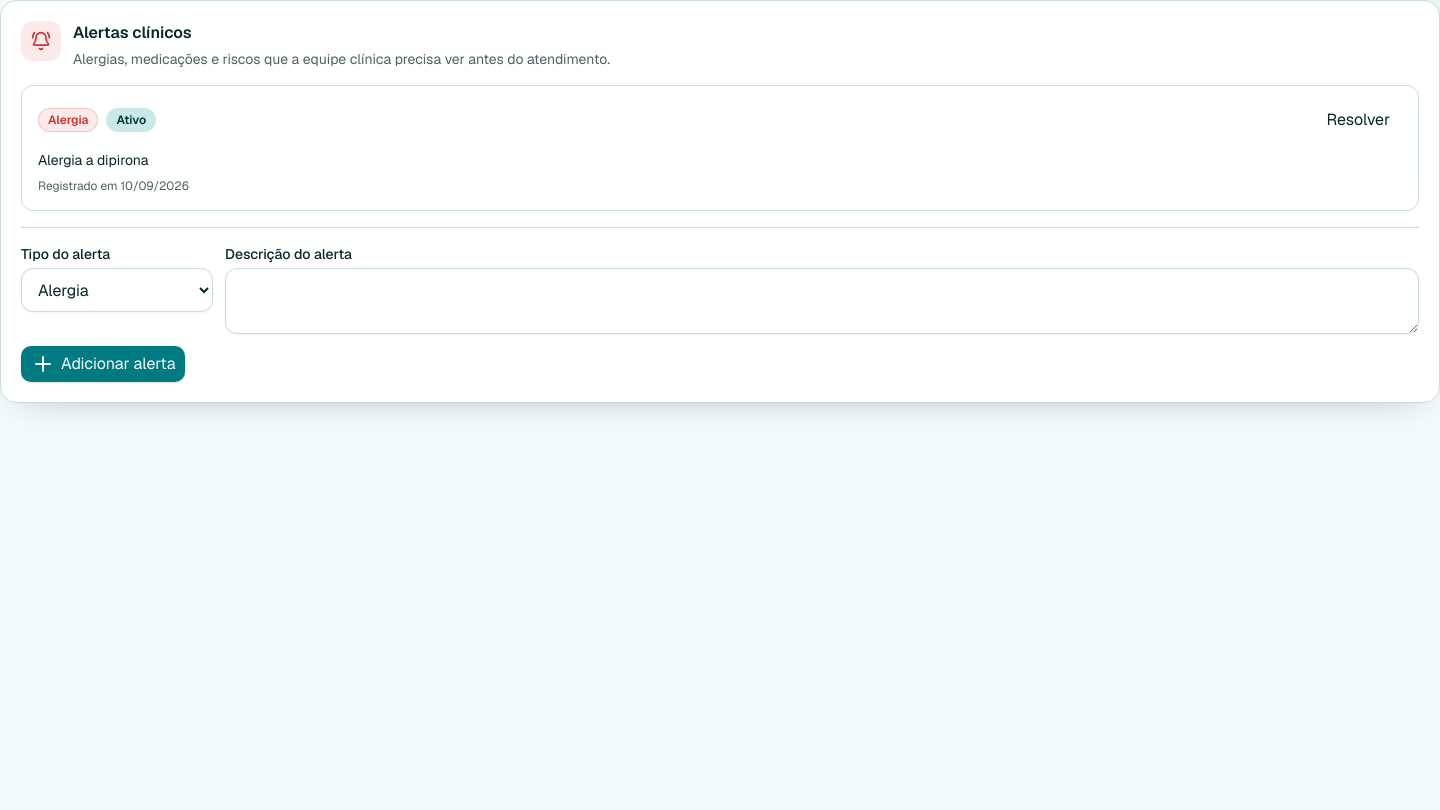
Scenario: PatientAlertsPanel › registers a new alert and prepends it to the list
Select "Risco clínico" in the dropdown labelled "Tipo do alerta": (117, 290) x1=21 y1=268 x2=213 y2=312
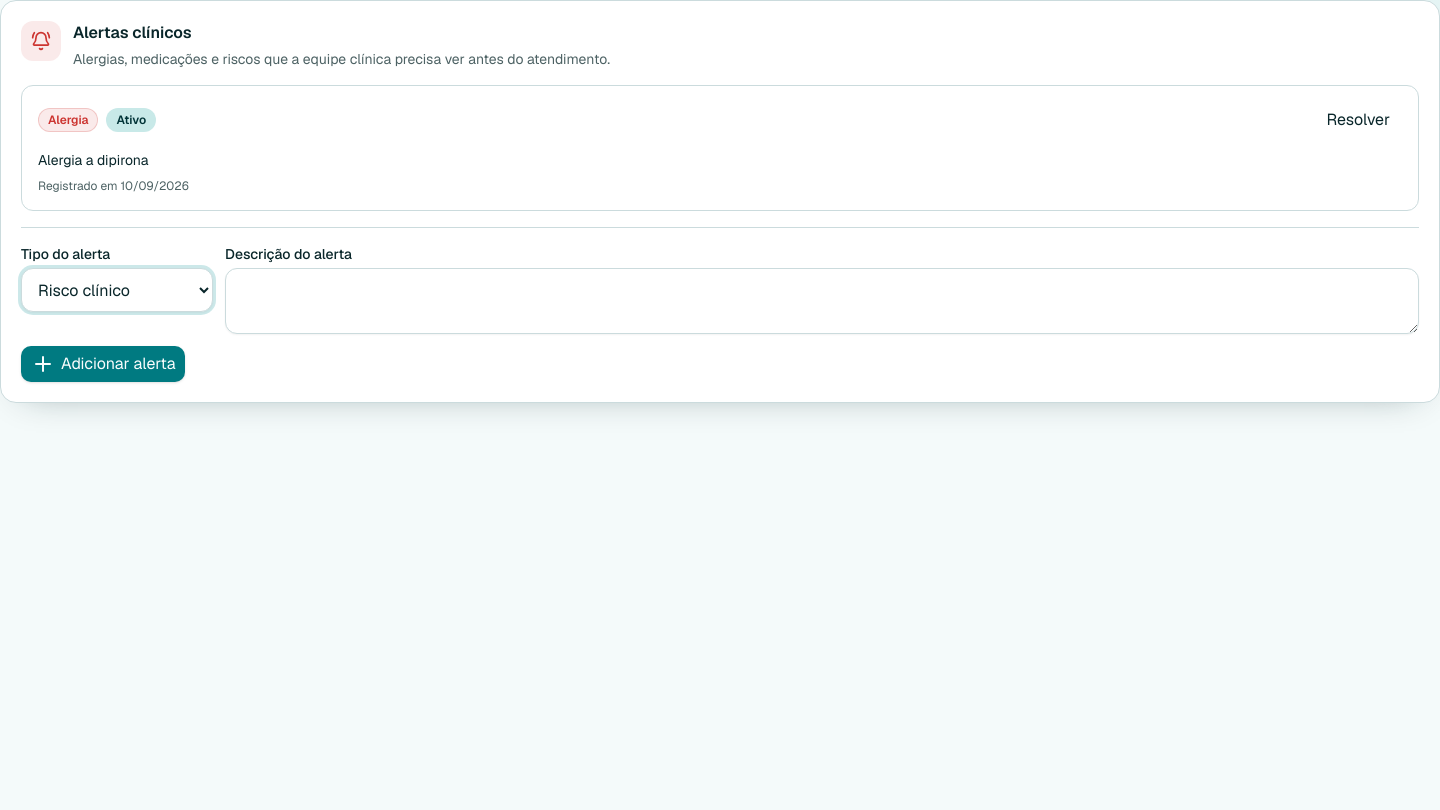
In the text box labelled "Descrição do alerta": (822, 301) x1=225 y1=268 x2=1419 y2=334, type "Risco de sangramento"
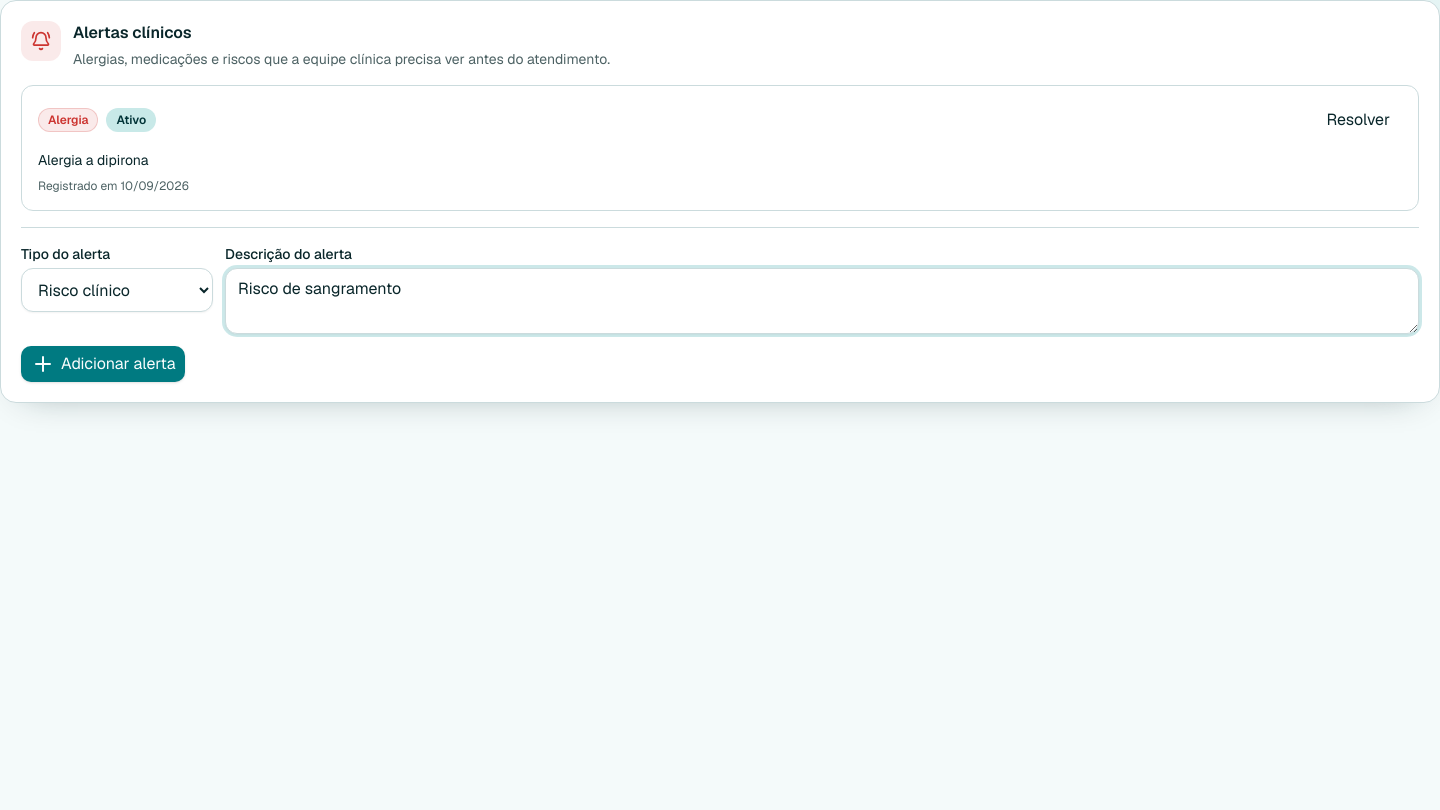
Click the button "Adicionar alerta": (103, 364) x1=21 y1=346 x2=186 y2=382
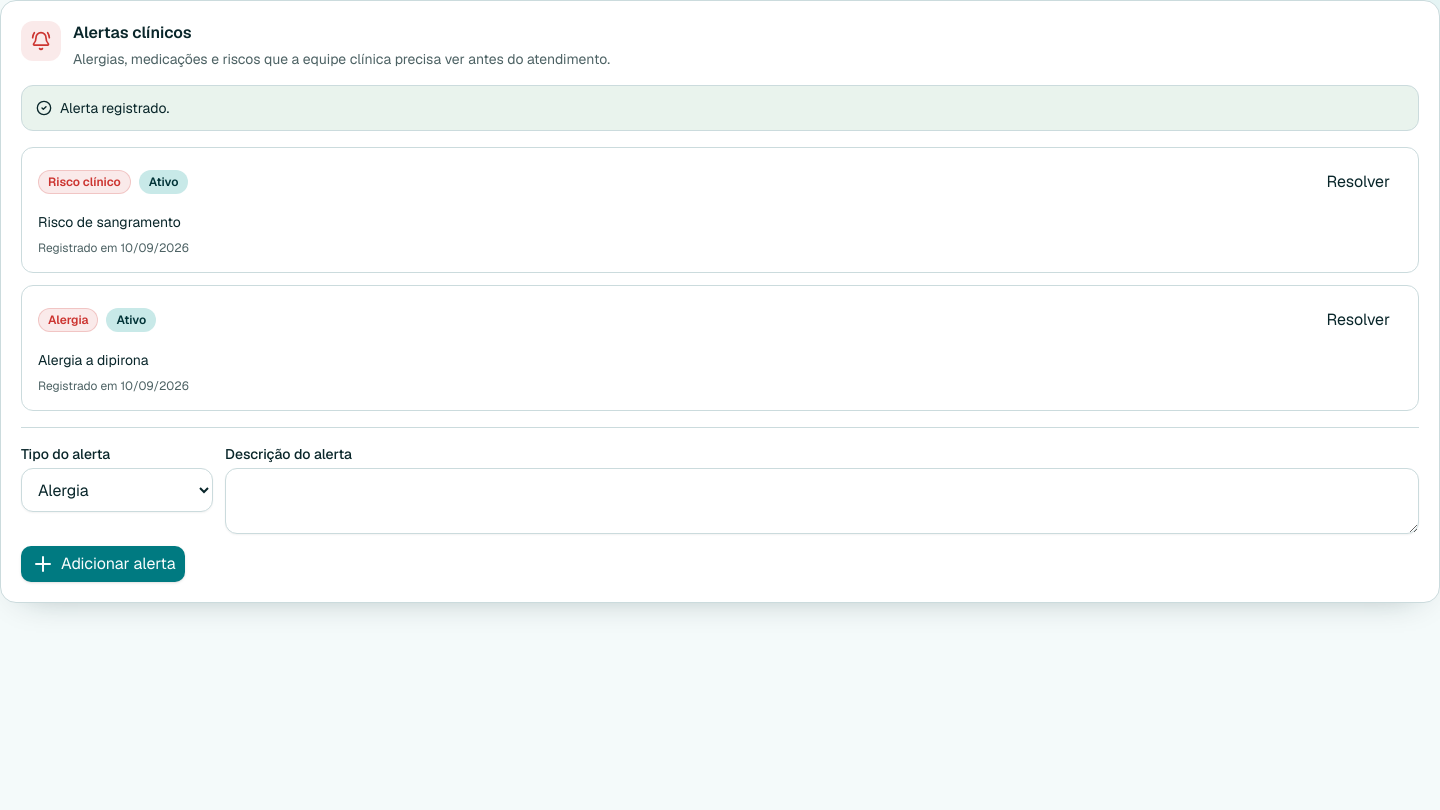
expect the text box labelled "Descrição do alerta" is empty: met, box x1=225 y1=468 x2=1419 y2=534
expect the text "Risco de sangramento" is shown: met, box x1=38 y1=213 x2=181 y2=231
expect the text "Alerta registrado." is shown: met, box x1=60 y1=98 x2=169 y2=118
